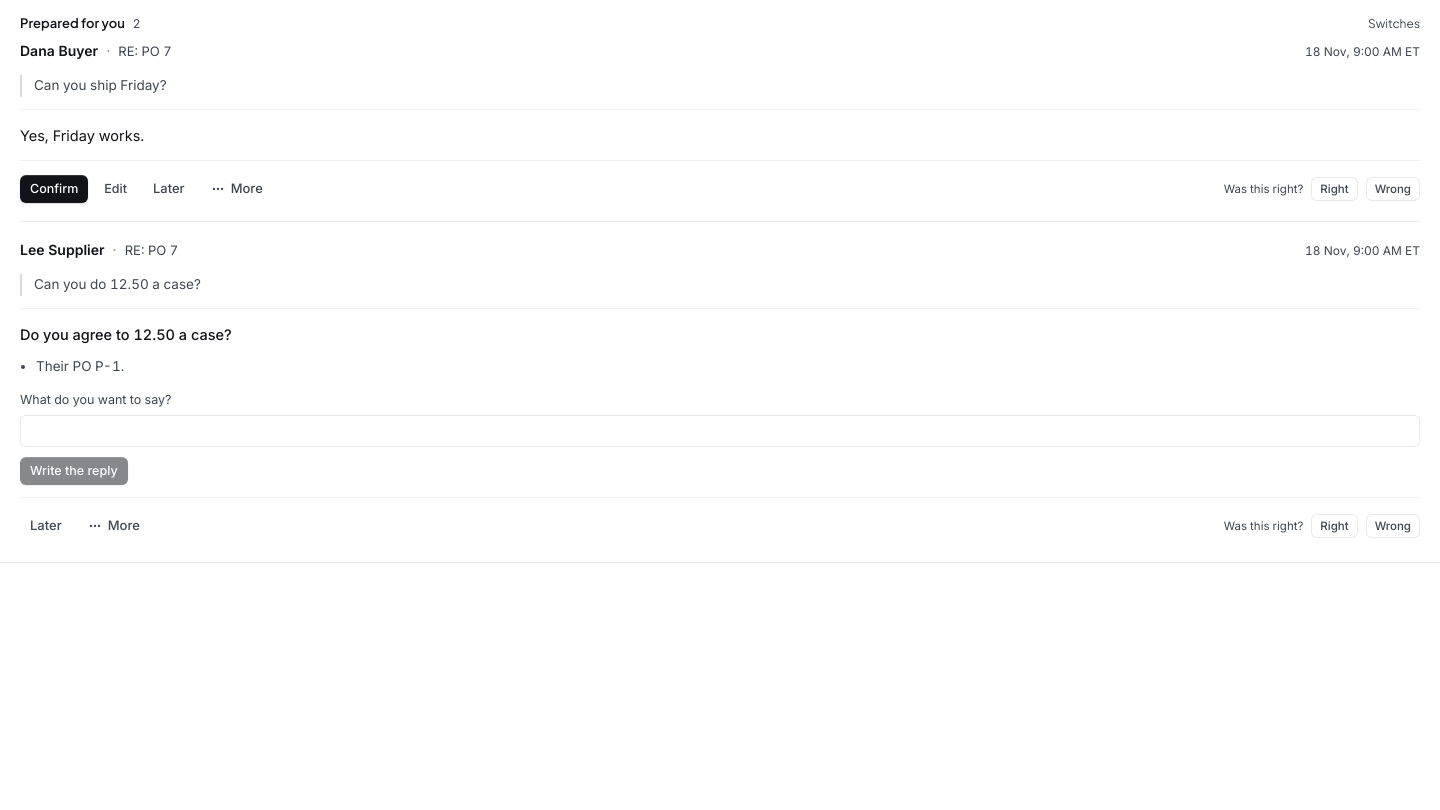
it: the queue on Home and its Switches tab › a reply shows Confirm, Edit and Later; the rarer actions sit under More, the same on every card; a card asks for your line
Check: the text "Dana Buyer" is shown, box [20,39,98,62]
Check: the text "Can you ship Friday?" is shown, box [20,75,1420,97]
Click the button "More" below "Dana Buyer" at (237, 189), box [201,173,273,205]
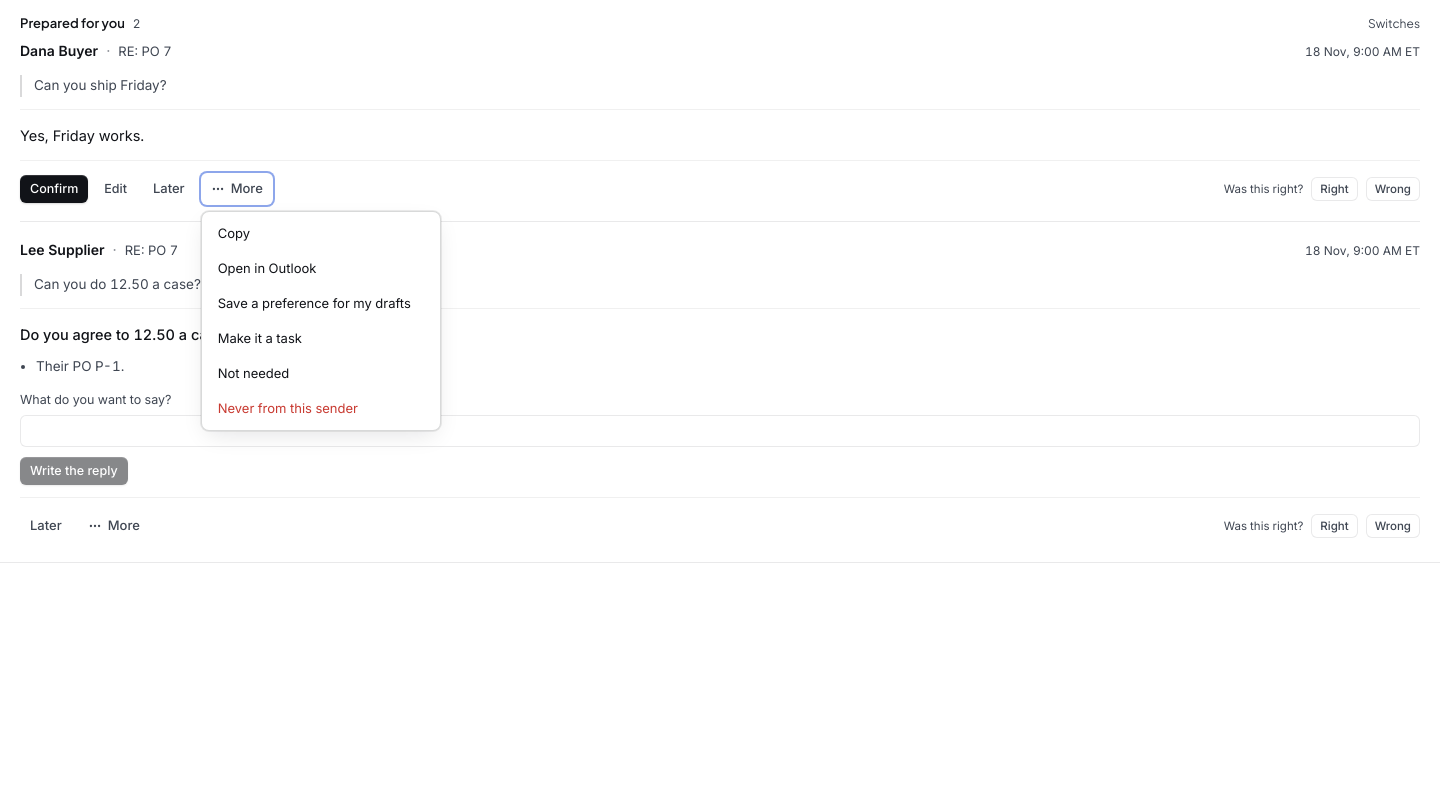
Check: the text "Do you agree to 12.50 a case?" is shown, box [20,326,232,343]
Check: the menu items read "Copy", "Open in Outlook", "Save a preference for my drafts", "Make it a task", "Not needed", "Never from this sender", in this order, box [206,216,436,251]; [206,251,436,286]; [206,286,436,321]; [206,321,436,356]; [206,356,436,391]; [206,391,436,426]
